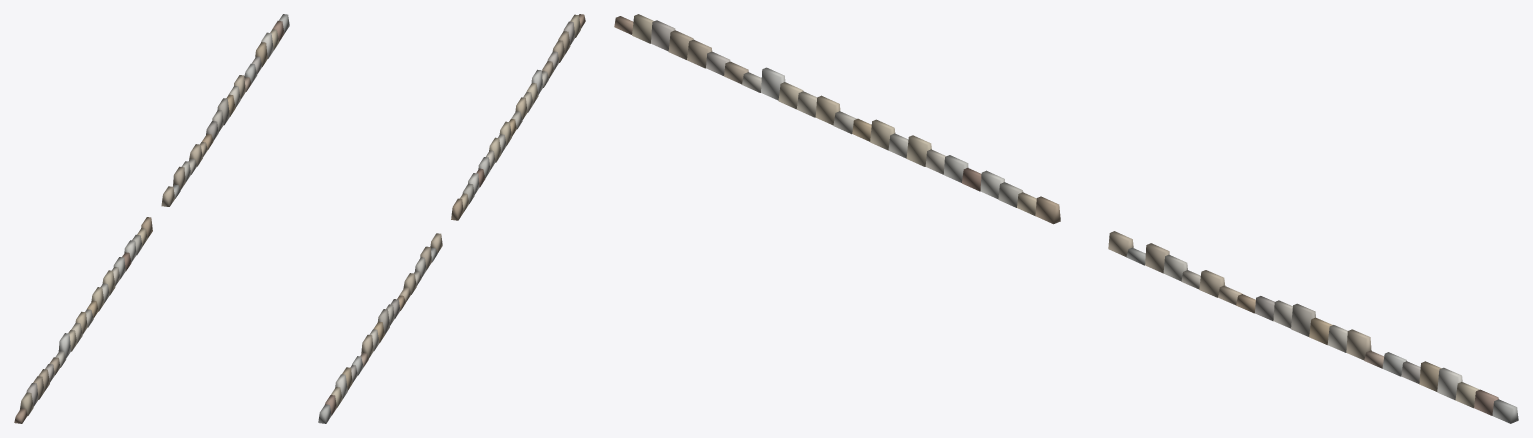
File: farm_9_5_collision.glb
The picture shows the model from 3 angles, left to right: view 1: azimuth 30°, elevation 25°; view 2: azimuth 210°, elevation 25°; view 3: azimuth 270°, elevation 25°; orthographic projection. The views are drawn at different scales.
Parts seen in each view (by area): view 1: geometry_0; view 2: geometry_0; view 3: geometry_0.
Part boxes in pixels (x1,y1,x2,y2): geometry_0: (14,14,289,423); geometry_0: (318,14,585,423); geometry_0: (614,14,1518,423).
Bounding box in the file's own units: 55.48 × 2.05 × 54.45.
